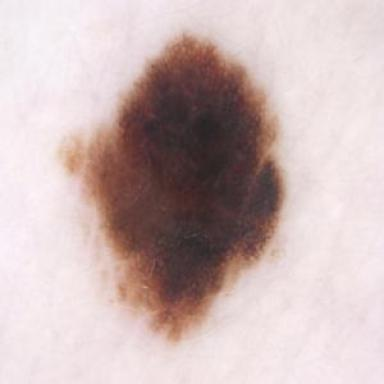Melanoma: (62, 34, 284, 341)
